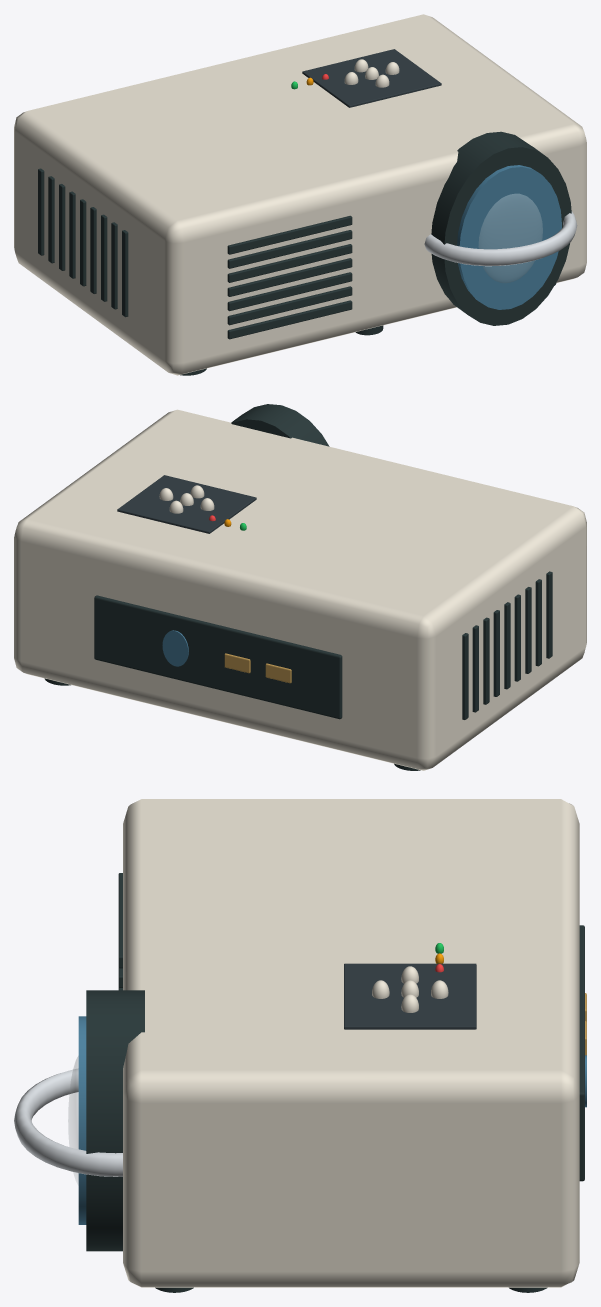
File: wp-videoprojecteur.glb
The picture shows the model from 3 angles, top to bottom: view 1: azimuth 30°, elevation 25°; view 2: azimuth 150°, elevation 25°; view 3: azimuth 270°, elevation 25°; orthographic projection. The views are drawn at different scales.
Visible parts, largest first — view 1: wp-videoprojecteur; view 2: wp-videoprojecteur; view 3: wp-videoprojecteur.
Boxes of the visible parts, bbox=[...] form: wp-videoprojecteur: bbox=[14, 14, 586, 375]; wp-videoprojecteur: bbox=[14, 404, 586, 770]; wp-videoprojecteur: bbox=[14, 799, 586, 1292].
Bounding box in the file's own units: 0.3 × 0.12 × 0.25.
